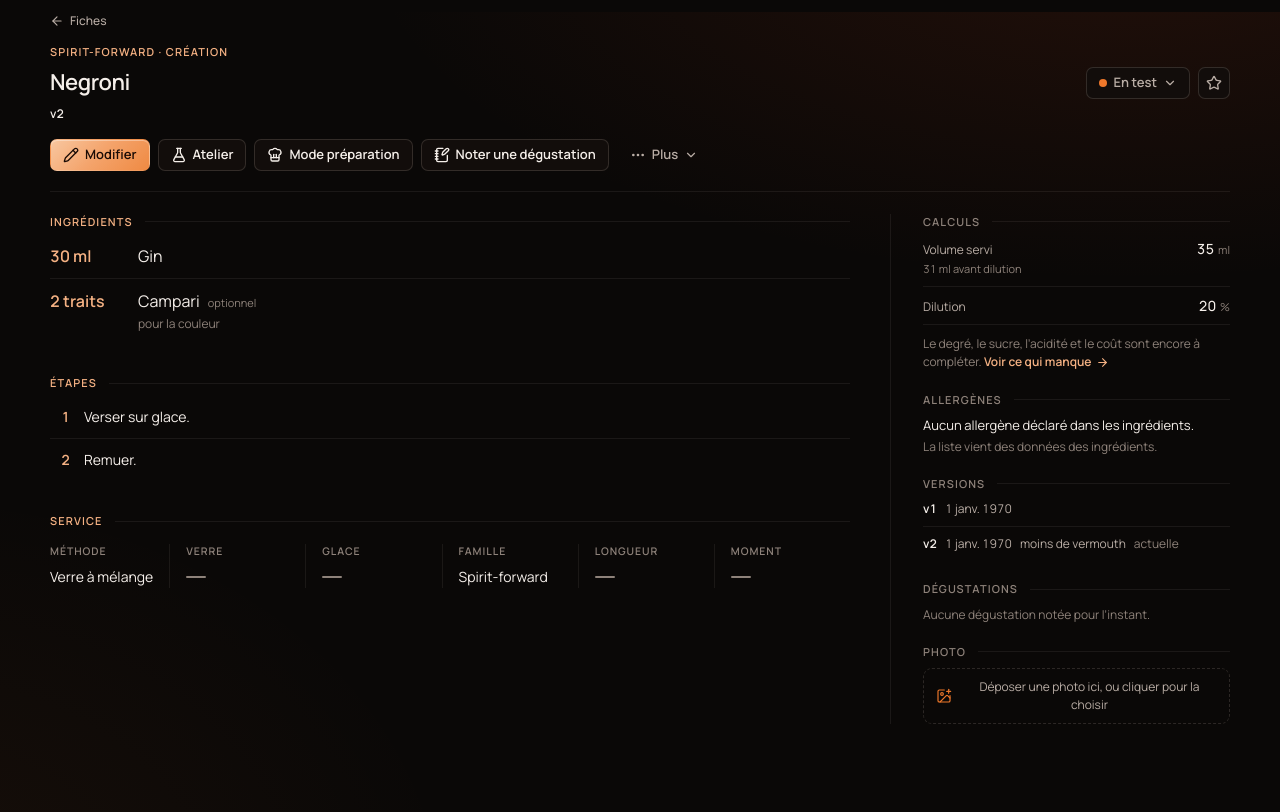
RecipeDetailPage › gathers the unknown values of the calculations in one sentence
Expected: the heading "Negroni" is shown, [50,69,130,96]
Click the button "Voir ce qui manque". click: coordinates (1046, 362)
box: [984,353,1108,372]
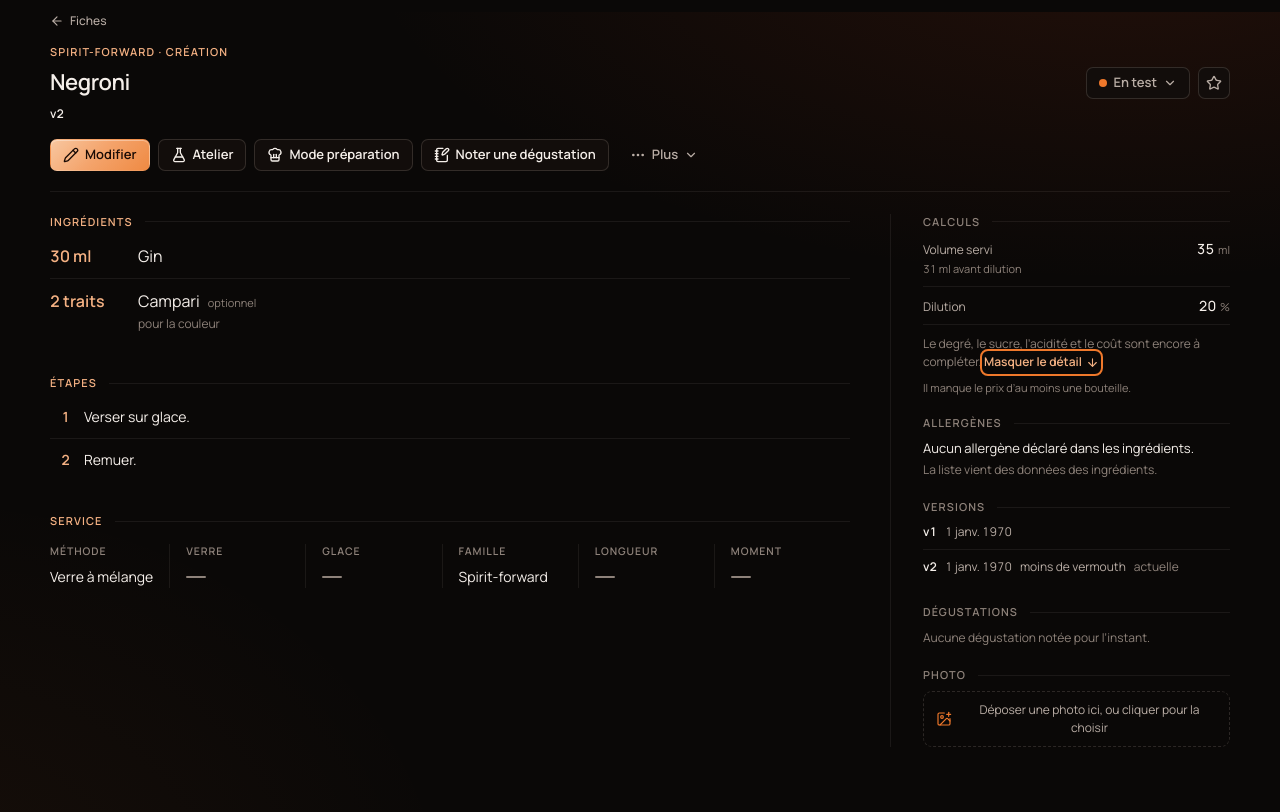
Expected: the text "Aucun allergène déclaré dans les ingrédients." is shown, [923,439,1230,459]
Expected: the button "Masquer le détail" is expanded, [984,353,1099,372]
Expected: the text "Il manque le prix d’au moins une bouteille." is shown, [923,380,1131,395]
